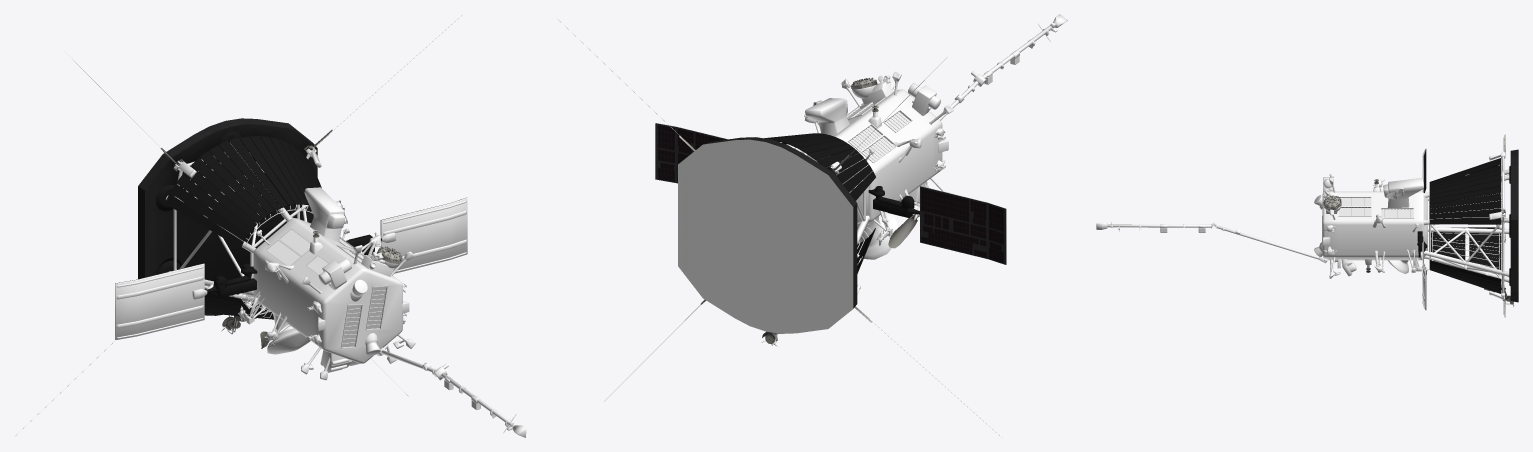
File: parker-solar-probe.glb
The picture shows the model from 3 angles, left to right: view 1: azimuth 30°, elevation 25°; view 2: azimuth 150°, elevation 25°; view 3: azimuth 270°, elevation 25°; orthographic projection. The views are drawn at different scales.
Parts seen in each view (by area): view 1: Cylinder.008, Cylinder.053, CoolingSystem, solarWing_LeftBacking, solarWing_RightBacking, vents, Cylinder.128, Cube.025, heatShield_Mounting, HGA; view 2: Cylinder.053, Cylinder.008, CoolingSystem, vents, Cube.025, Cylinder.128; view 3: Cylinder.008, CoolingSystem, Cylinder.053, vents, Cube.025, CoolingSystem_frame.
Boxes of the visible parts, left/top/right/bottom form: Cylinder.008: left=165, top=143, right=415, bottom=380; Cylinder.053: left=115, top=118, right=466, bottom=348; CoolingSystem: left=165, top=136, right=321, bottom=319; solarWing_LeftBacking: left=115, top=263, right=204, bottom=339; solarWing_RightBacking: left=381, top=198, right=467, bottom=273; vents: left=265, top=228, right=387, bottom=348; Cylinder.128: left=192, top=232, right=395, bottom=299; Cube.025: left=377, top=345, right=526, bottom=437; heatShield_Mounting: left=156, top=131, right=242, bottom=294; HGA: left=267, top=331, right=310, bottom=354; Cylinder.053: left=655, top=77, right=1006, bottom=346; Cylinder.008: left=788, top=72, right=953, bottom=294; CoolingSystem: left=764, top=133, right=875, bottom=273; vents: left=846, top=97, right=912, bottom=162; Cube.025: left=939, top=14, right=1067, bottom=120; Cylinder.128: left=868, top=186, right=919, bottom=217; Cylinder.008: left=1314, top=151, right=1509, bottom=300; CoolingSystem: left=1429, top=158, right=1501, bottom=293; Cylinder.053: left=1323, top=134, right=1518, bottom=317; vents: left=1322, top=196, right=1414, bottom=242; Cube.025: left=1096, top=222, right=1327, bottom=263; CoolingSystem_frame: left=1429, top=165, right=1511, bottom=304.
Size of the model in its own units: 2.61 by 2.39 by 3.
Materials: 7 (2 with a texture image).
